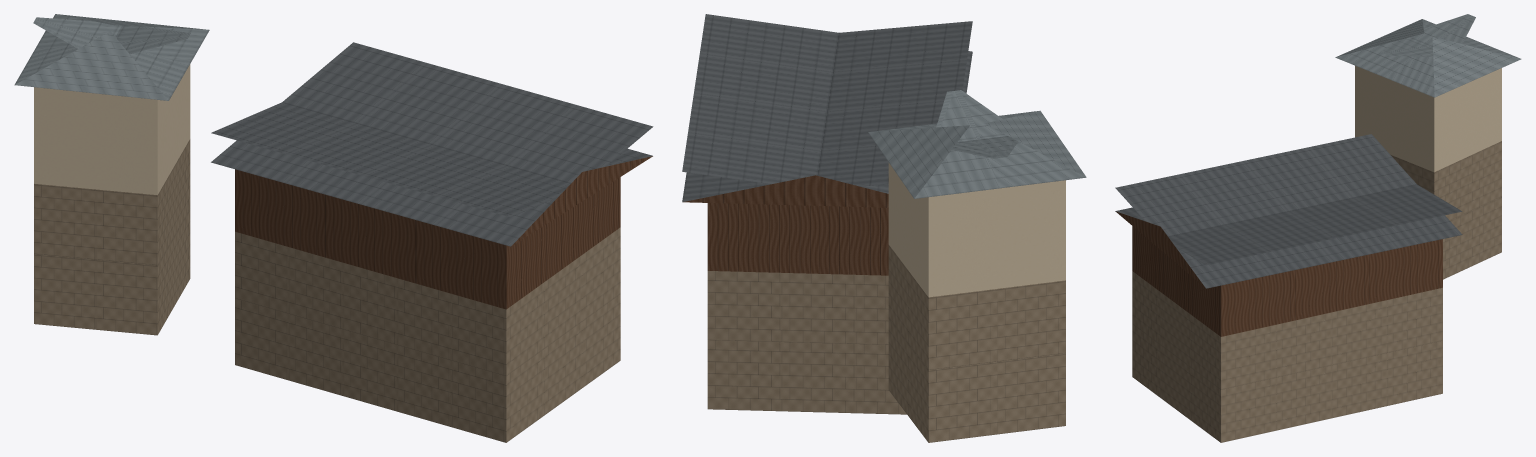
The model's file is bld_c13_47_505.gltf.
The picture shows the model from 3 angles, left to right: view 1: azimuth 30°, elevation 25°; view 2: azimuth 150°, elevation 25°; view 3: azimuth 270°, elevation 25°; orthographic projection. The views are drawn at different scales.
Visible parts, largest first — view 1: bld_c13_47_505; view 2: bld_c13_47_505; view 3: bld_c13_47_505.
Part boxes in pixels (x1,y1,x2,y2): bld_c13_47_505: (14, 14, 653, 442); bld_c13_47_505: (682, 14, 1086, 442); bld_c13_47_505: (1115, 14, 1521, 442).
Bounding box in the file's own units: 17.92 × 11.2 × 15.79.
6 materials, 6 textured.
